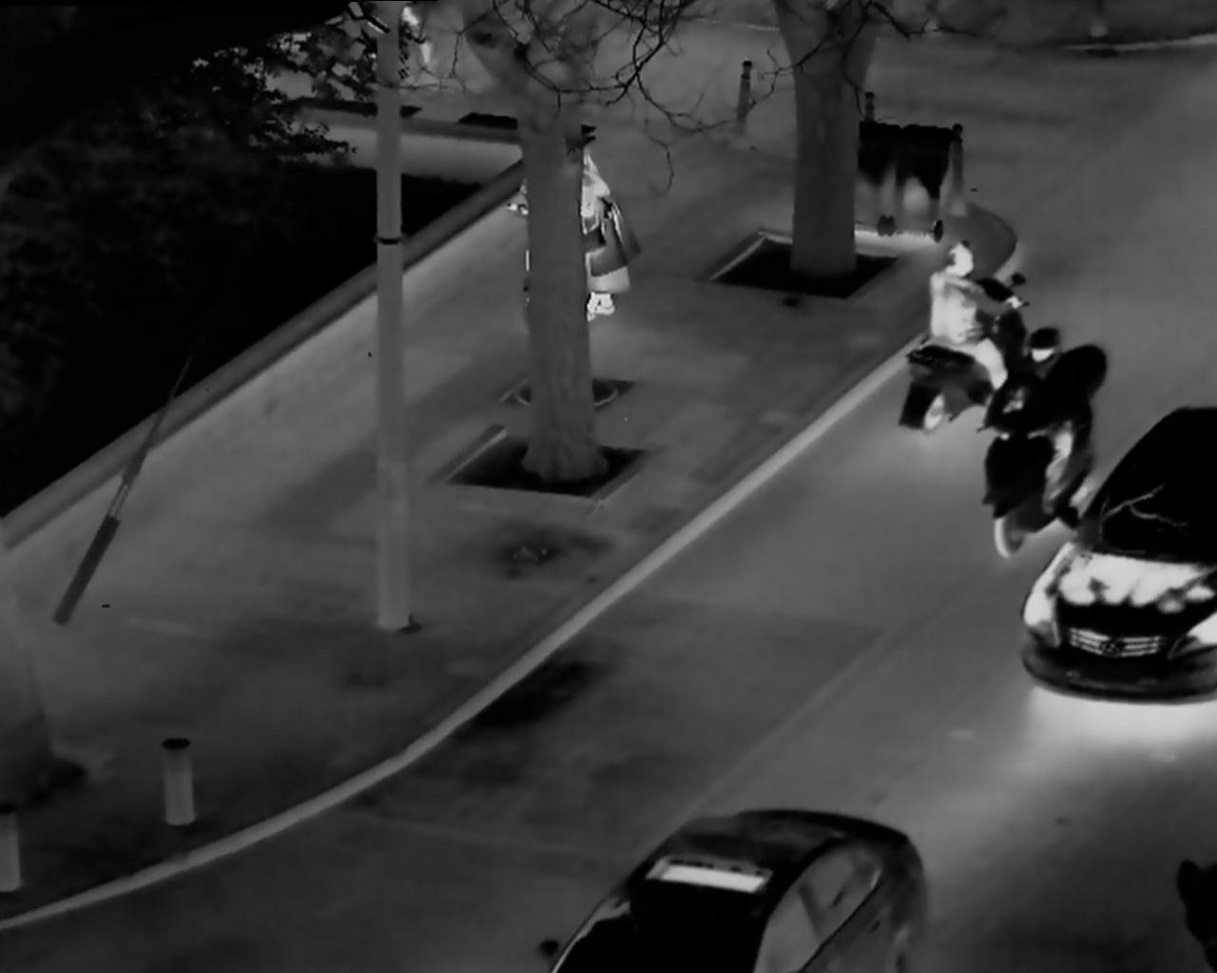person: (993, 316, 1088, 561), (561, 146, 660, 337), (925, 216, 1006, 429)
